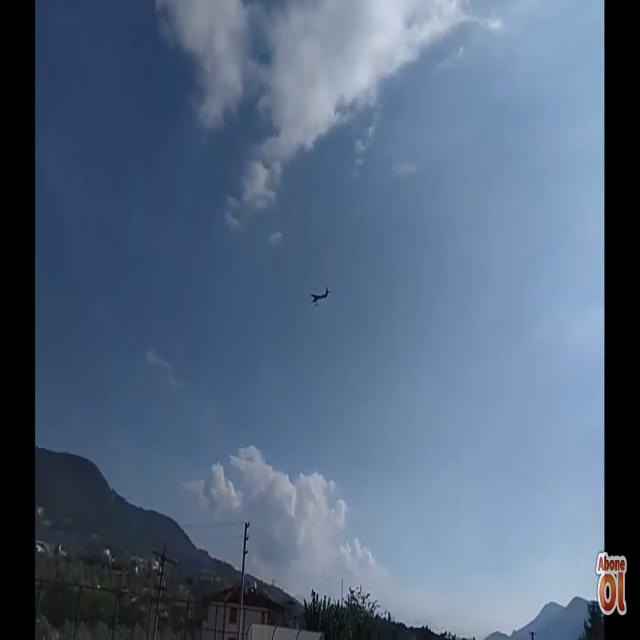iha: (309, 287, 331, 307)
